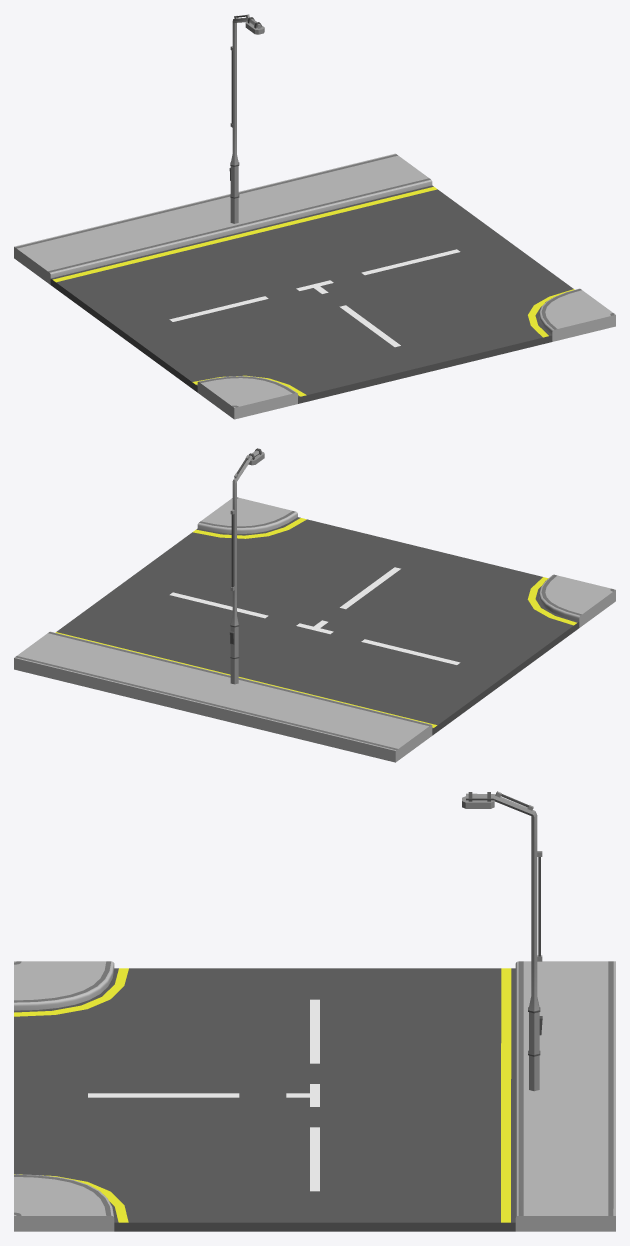
The model's file is SM_Road_Crossroads_Three_01.FBX.
The picture shows the model from 3 angles, top to bottom: view 1: azimuth 30°, elevation 25°; view 2: azimuth 150°, elevation 25°; view 3: azimuth 270°, elevation 25°; orthographic projection. The views are drawn at different scales.
Parts seen in each view (by area): view 1: SM_Road_Crossroads_Three_01; view 2: SM_Road_Crossroads_Three_01; view 3: SM_Road_Crossroads_Three_01.
Part boxes in pixels (box(x1,y1,x2,y2)): SM_Road_Crossroads_Three_01: box(14, 14, 615, 419); SM_Road_Crossroads_Three_01: box(14, 448, 615, 762); SM_Road_Crossroads_Three_01: box(14, 791, 615, 1231).
Bounding box in the file's own units: 6 × 3.44 × 6.
Materials: 1 (1 with a texture image).
